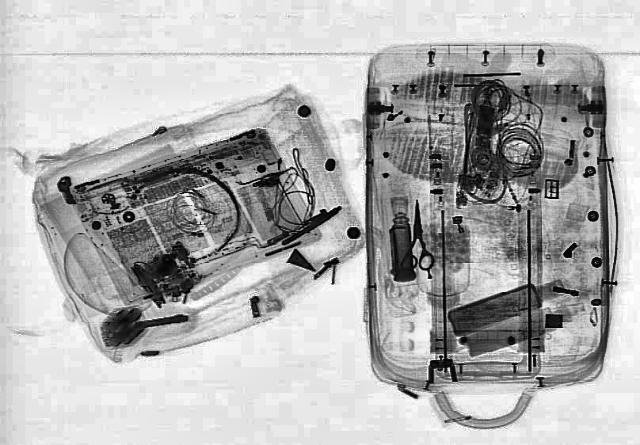Scissors: (401, 199, 434, 270)
